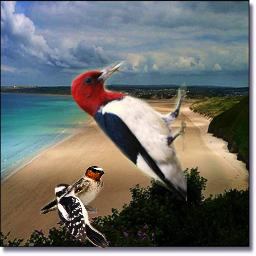Swallow: (39, 165, 105, 214)
Woodpecker: (69, 61, 187, 201), (54, 183, 109, 250)
